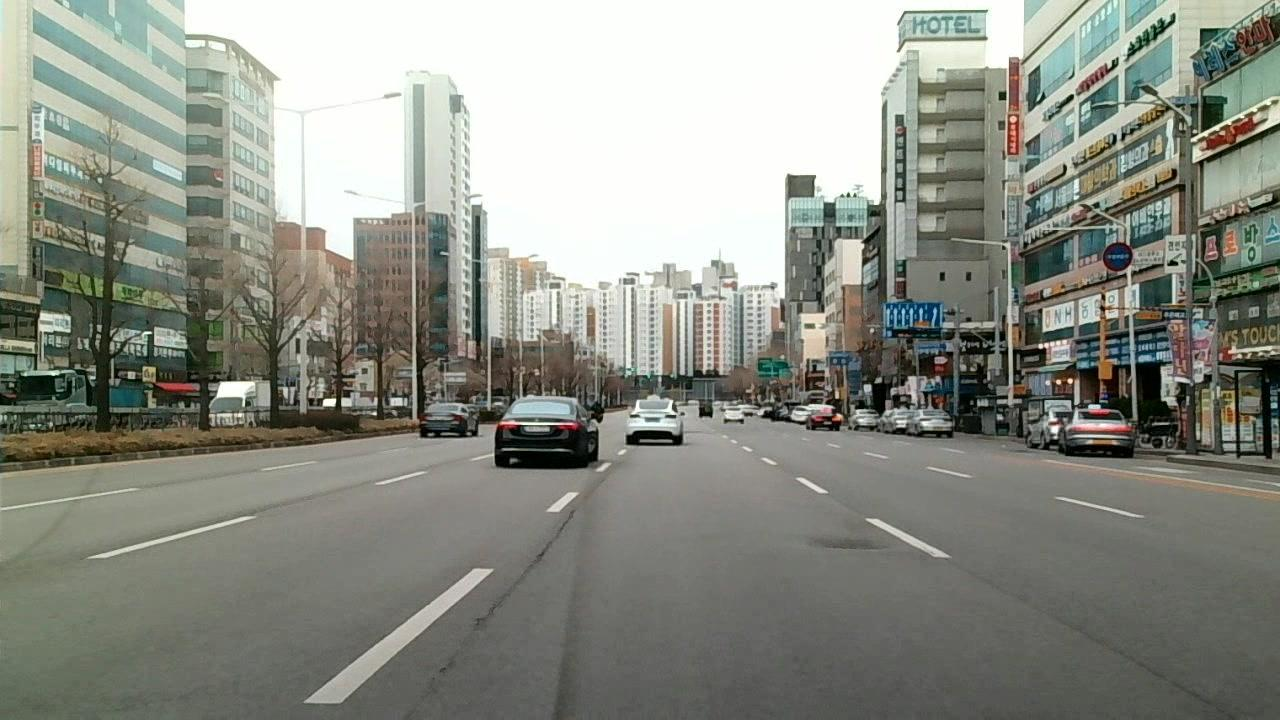vcrack: (1059, 618, 1250, 719), (399, 619, 492, 720), (493, 508, 576, 613), (255, 490, 331, 514)
